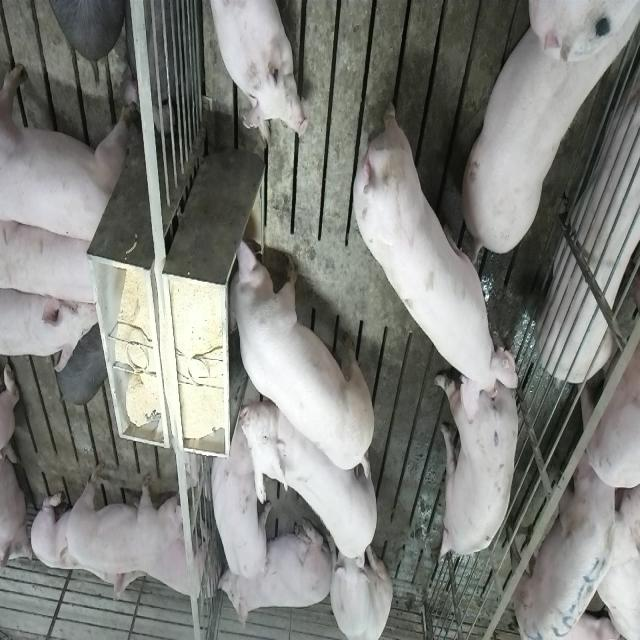Feeding: (219, 234, 371, 478)
Sitting: (328, 532, 392, 640)
Standing: (348, 92, 514, 400), (458, 8, 634, 264), (2, 57, 134, 249), (243, 387, 382, 564), (513, 433, 621, 640), (434, 363, 522, 564), (64, 464, 192, 576), (3, 214, 105, 310), (207, 424, 267, 580), (0, 286, 102, 371)
Sternal_lying: (538, 57, 640, 484), (204, 0, 306, 141), (32, 484, 144, 610), (218, 516, 329, 628), (141, 524, 213, 606)
